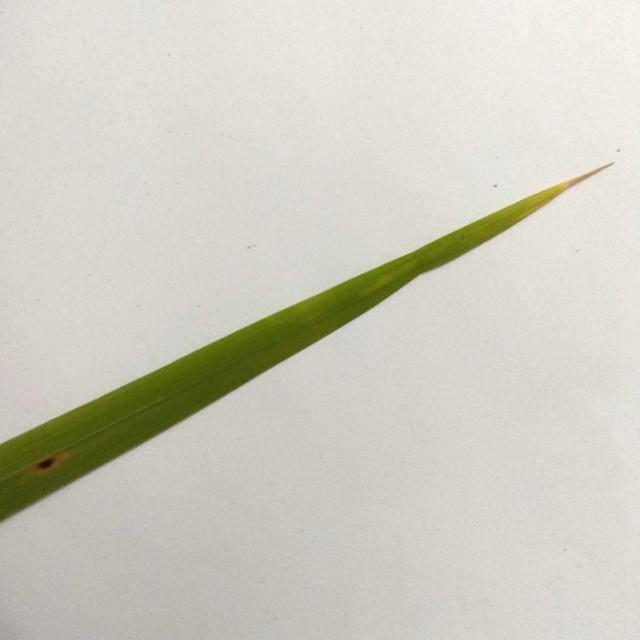Brown spot: (26, 447, 66, 478)
